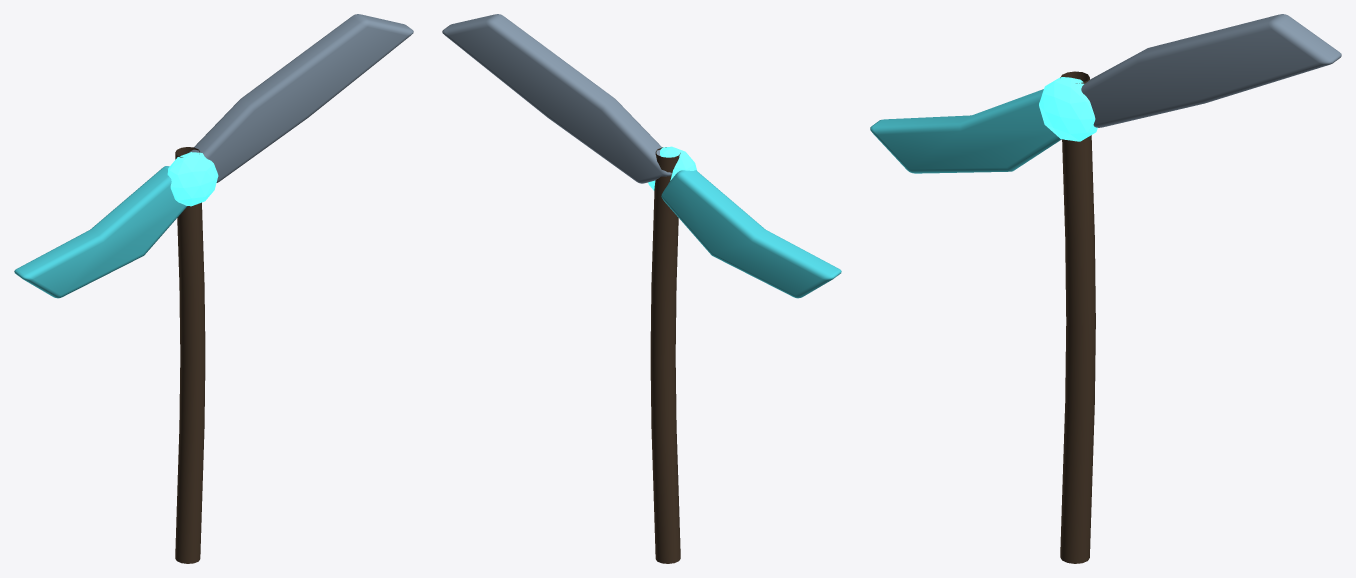
The model's file is scythe_v3.glb.
3 views of the same model, side by side, from view 1: azimuth 30°, elevation 25°; view 2: azimuth 150°, elevation 25°; view 3: azimuth 330°, elevation 25° (orthographic). The views are drawn at different scales.
Parts seen in each view (by area): view 1: UPPER_CRESCENT_PRIMARY, SCYTHE_SHAFT_SECONDARY, LOWER_CRESCENT_ACCENT, REAPER_JOINT_EMISSIVE; view 2: UPPER_CRESCENT_PRIMARY, SCYTHE_SHAFT_SECONDARY, LOWER_CRESCENT_ACCENT, REAPER_JOINT_EMISSIVE; view 3: UPPER_CRESCENT_PRIMARY, SCYTHE_SHAFT_SECONDARY, LOWER_CRESCENT_ACCENT, REAPER_JOINT_EMISSIVE.
Boxes of the visible parts, x1,y1,x2,y2 form: UPPER_CRESCENT_PRIMARY: (189, 14, 413, 182); SCYTHE_SHAFT_SECONDARY: (175, 147, 205, 563); LOWER_CRESCENT_ACCENT: (14, 166, 187, 298); REAPER_JOINT_EMISSIVE: (167, 152, 218, 206); UPPER_CRESCENT_PRIMARY: (442, 14, 671, 183); SCYTHE_SHAFT_SECONDARY: (650, 147, 680, 563); LOWER_CRESCENT_ACCENT: (661, 170, 841, 298); REAPER_JOINT_EMISSIVE: (648, 146, 696, 190); UPPER_CRESCENT_PRIMARY: (1081, 14, 1341, 127); SCYTHE_SHAFT_SECONDARY: (1060, 71, 1095, 563); LOWER_CRESCENT_ACCENT: (870, 89, 1061, 173); REAPER_JOINT_EMISSIVE: (1039, 77, 1097, 141).
Bounding box in the file's own units: 3.06 × 3.72 × 0.26.
